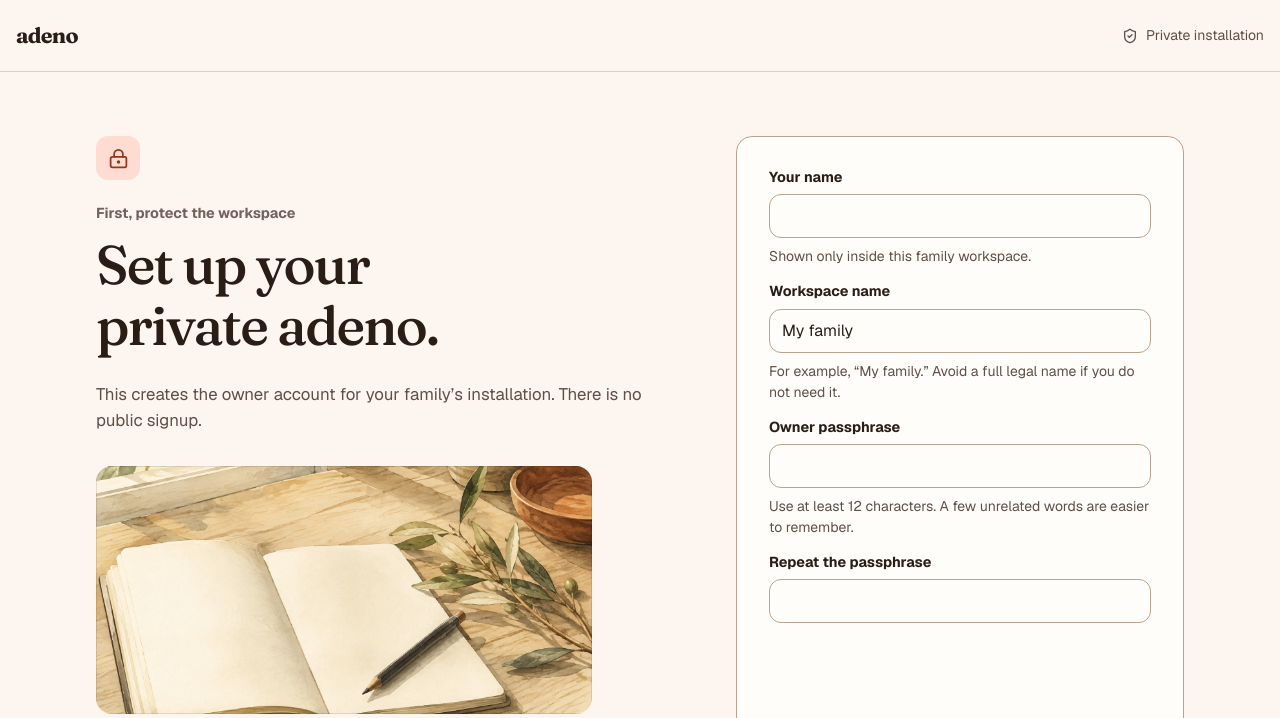
Test: keeps the setup token out of the URL and shows recovery codes once
Type "Synthetic organizer" into the field labelled "Your name" at (960, 216), box [769, 194, 1151, 238]
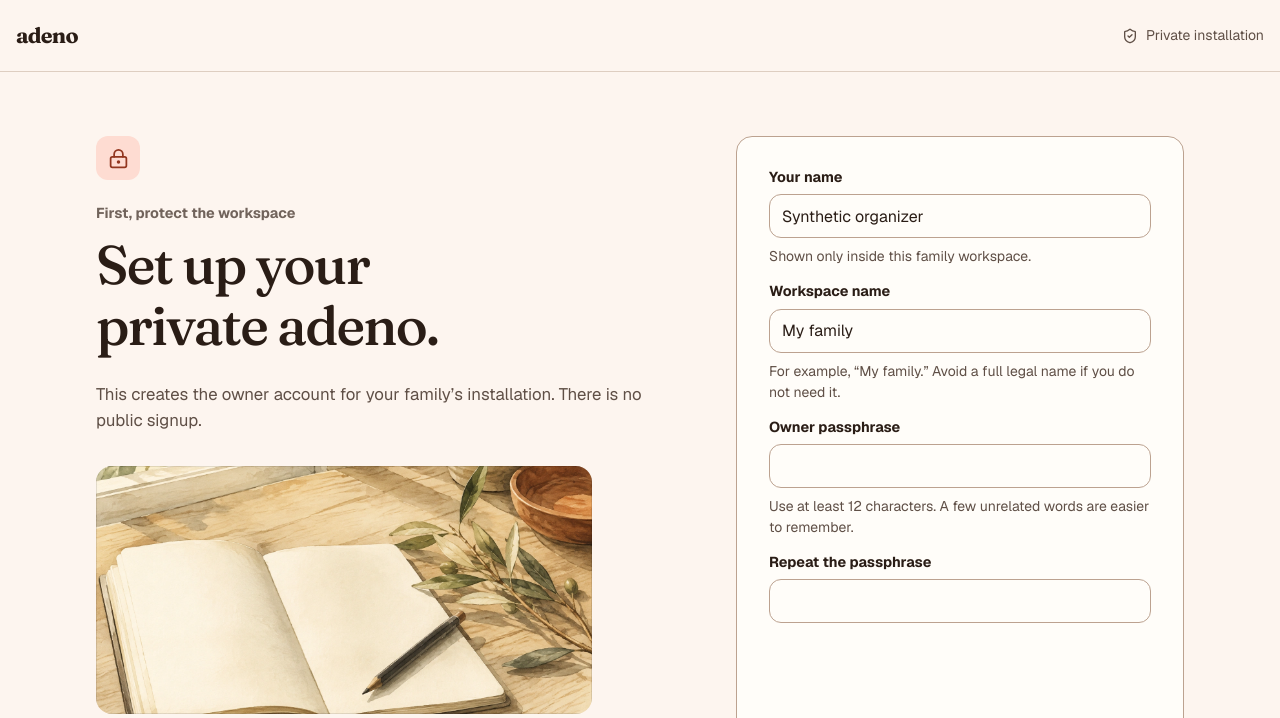
Replace the text in the field labelled "Workspace name" with "Synthetic household" at (960, 331), box [769, 309, 1151, 353]
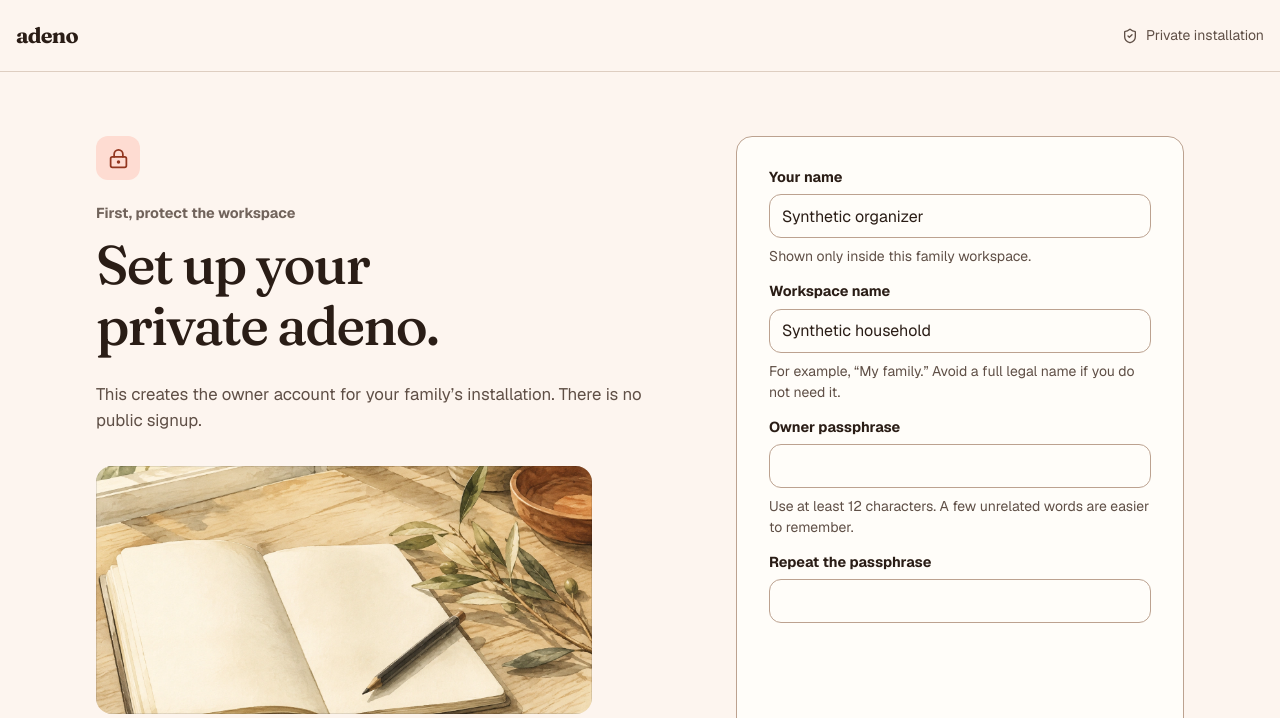
Type "synthetic owner passphrase" into the password field labelled "Owner passphrase" at (960, 466), box [769, 444, 1151, 488]
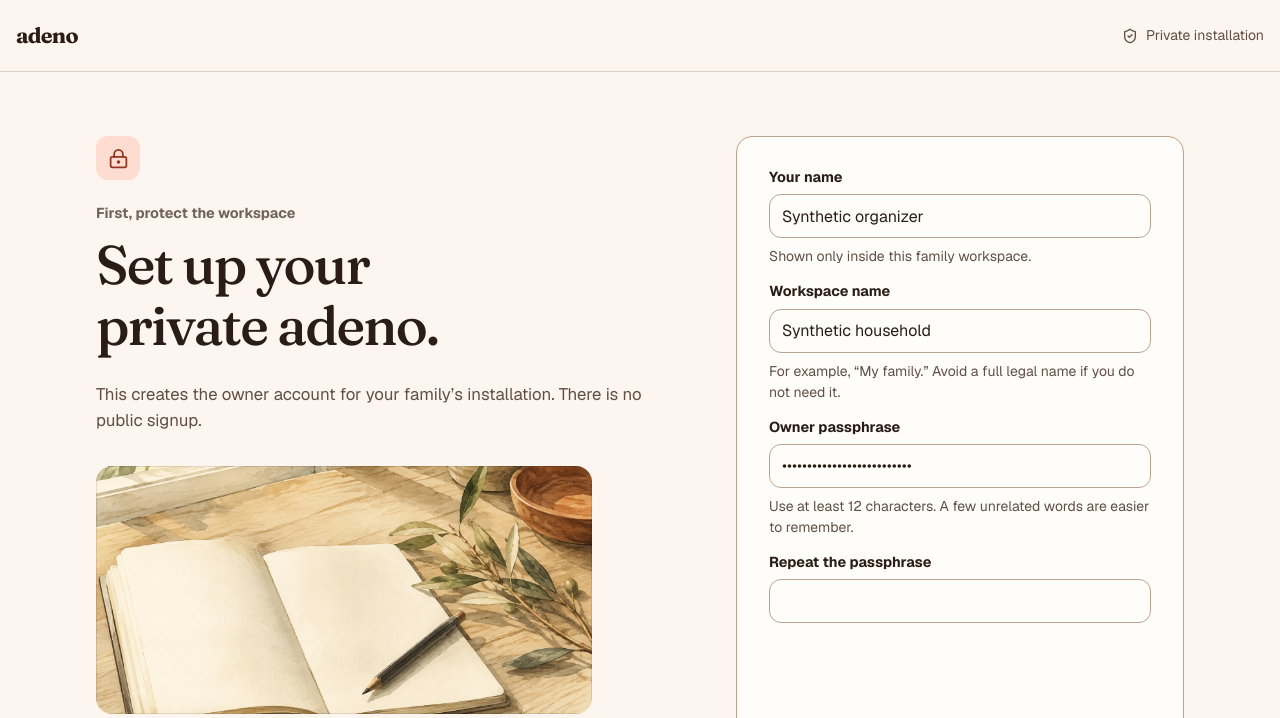
Type "synthetic owner passphrase" into the password field labelled "Repeat the passphrase" at (960, 601), box [769, 579, 1151, 623]
(page scrolled)
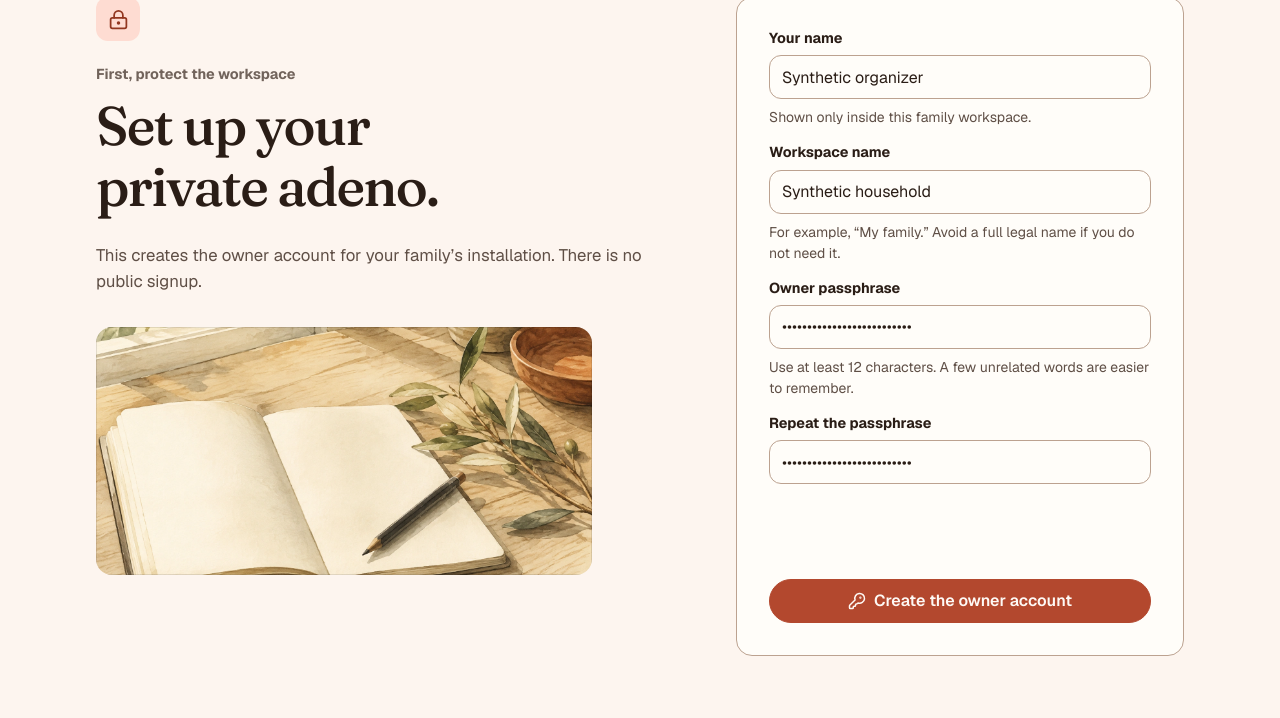
Click the button "Create the owner account" at (960, 601), box [769, 579, 1151, 623]
(page scrolled)
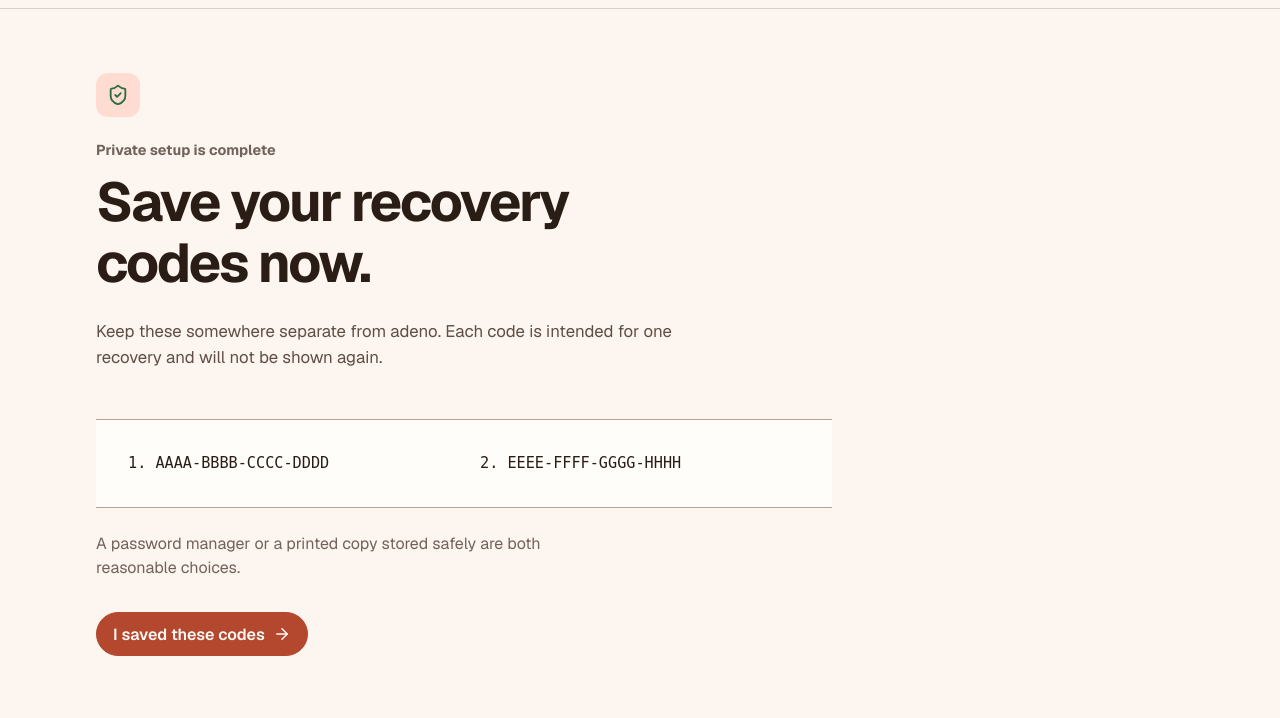
Expected: the heading "Save your recovery codes now." is shown, [96, 166, 568, 298]
Expected: the list item "AAAA-BBBB-CCCC-DDDD" is shown, [155, 454, 329, 472]
